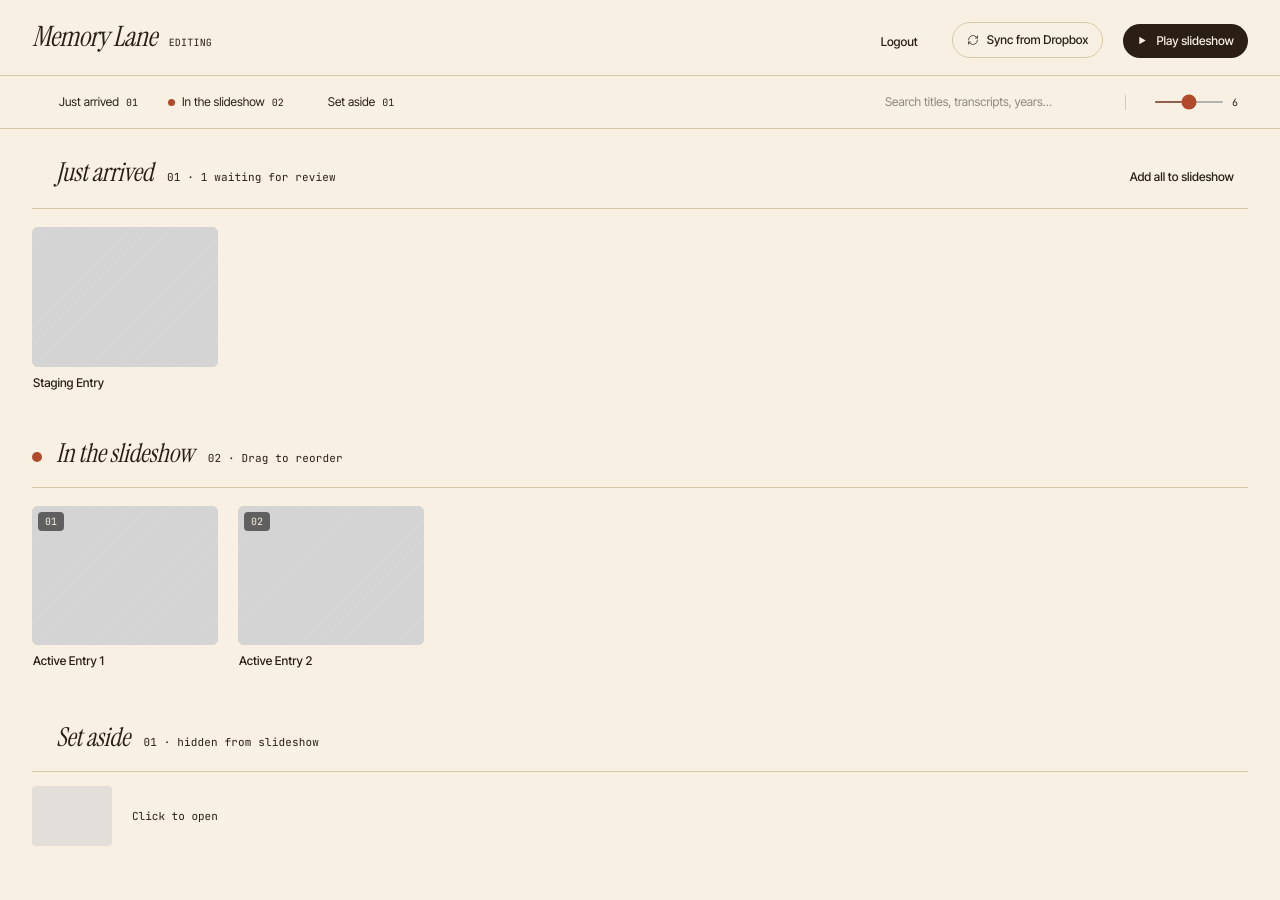
Test: EntryGrid › Multi-select › clear button in SelectionBar deselects all entries
The width and height of the screenshot is (1280, 900).
Step 1. Hover over the text "Active Entry 1" → {"x": 125, "y": 588}, box [32,506,218,670]
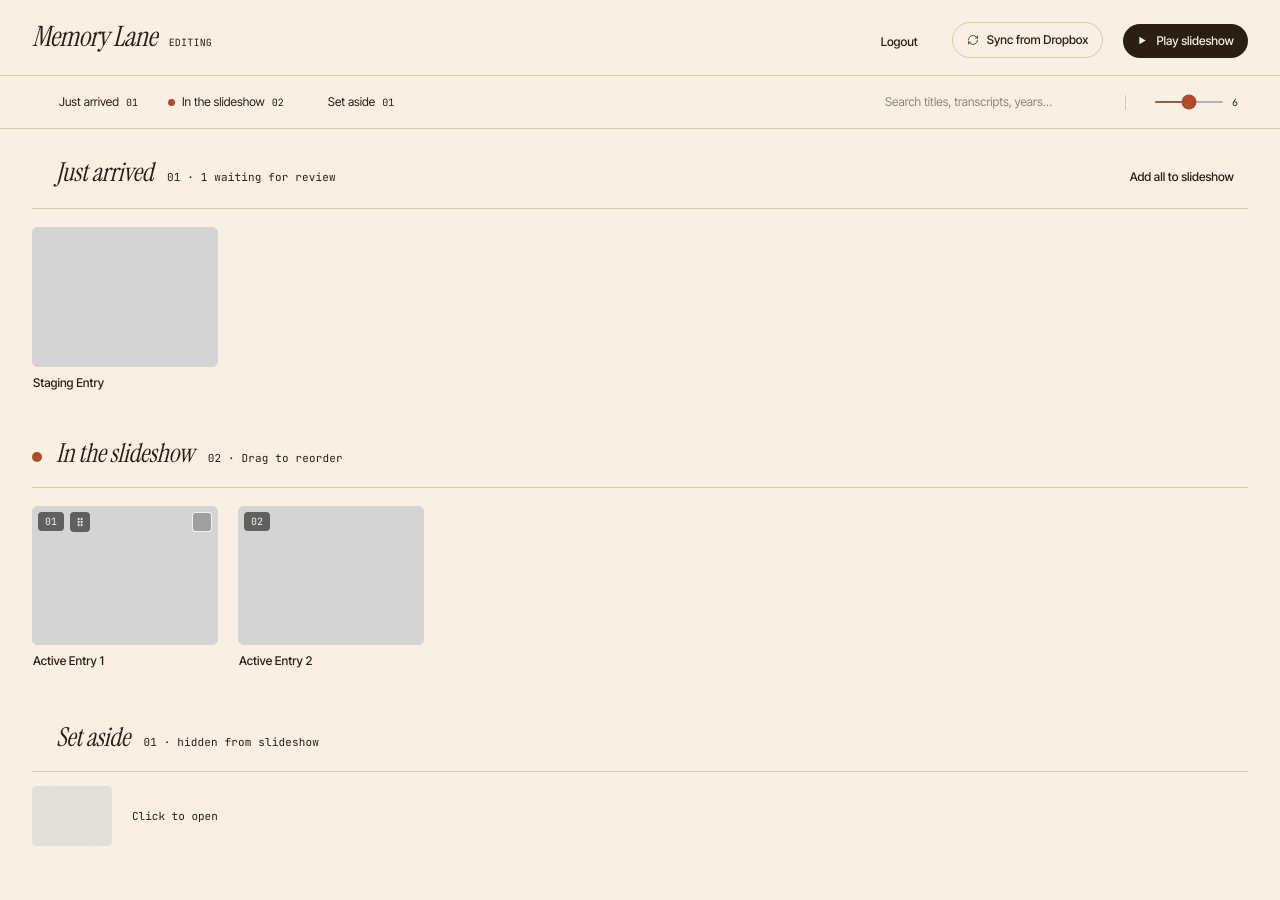
Step 2. Click the element with test id "thumb-check" → {"x": 202, "y": 522}, box [192,512,212,532]
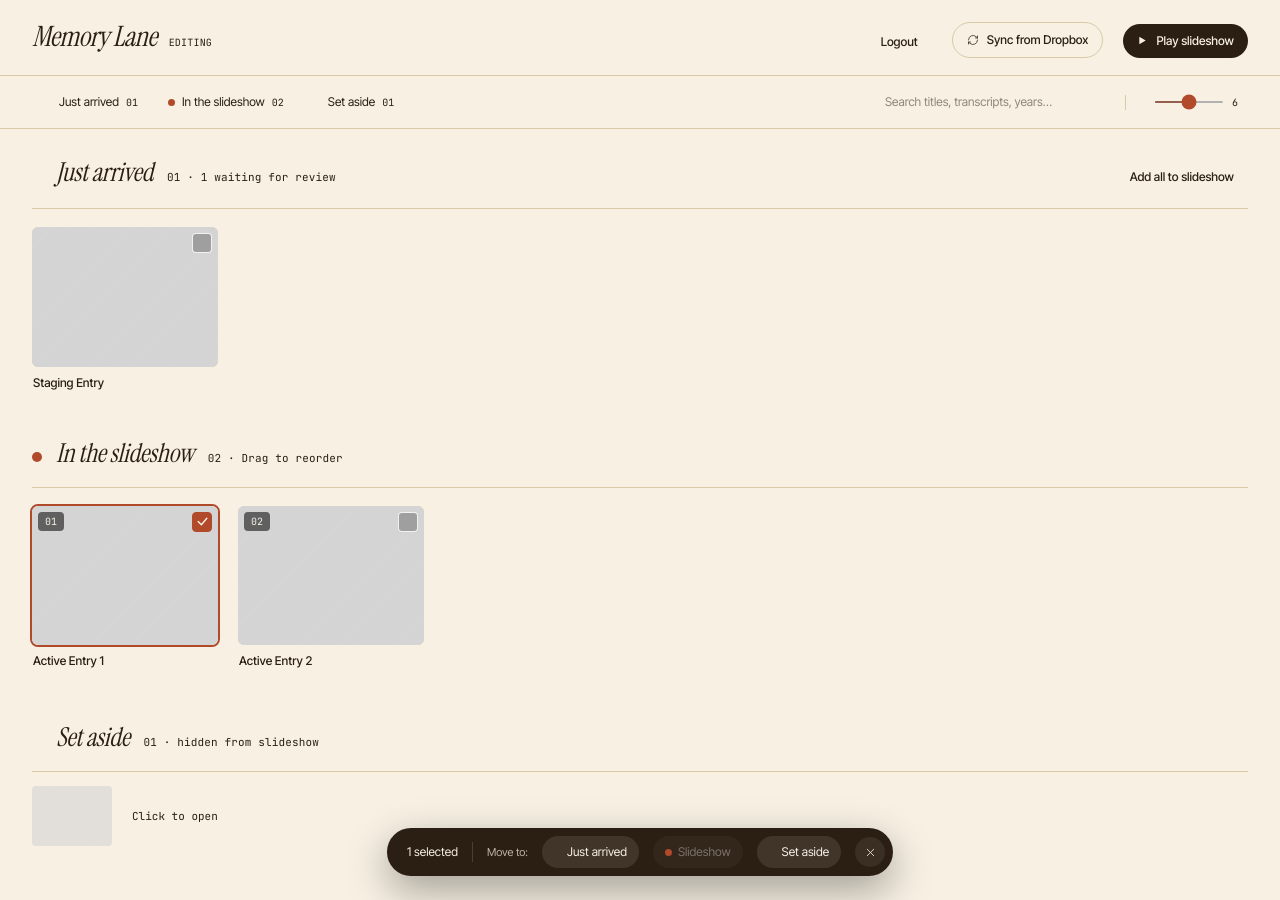
Check: the text "1 selected" is shown, box [407,843,458,861]
Step 3. Click the button named "clear selection" → {"x": 870, "y": 852}, box [855,837,885,867]
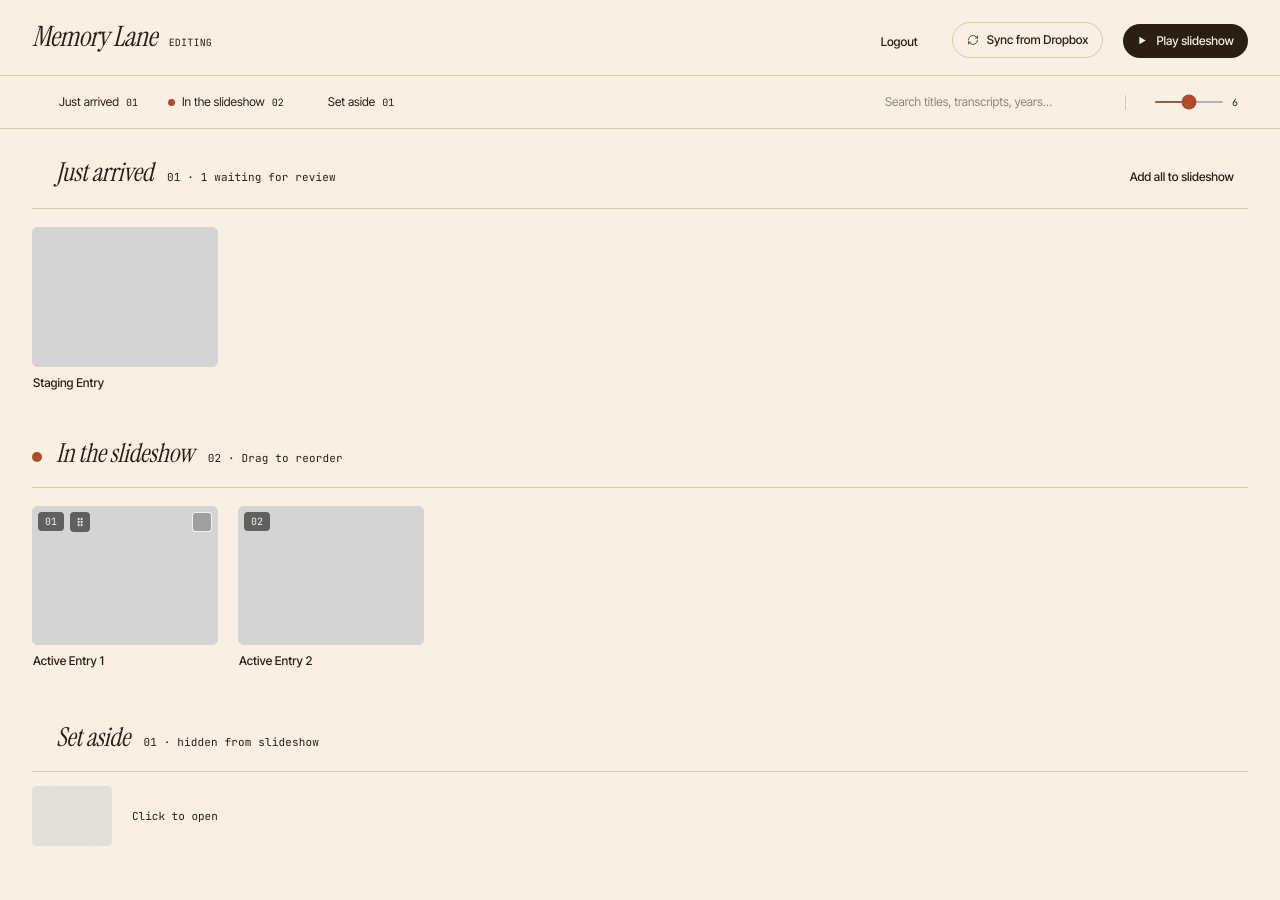
Check: the text "selected" is gone
